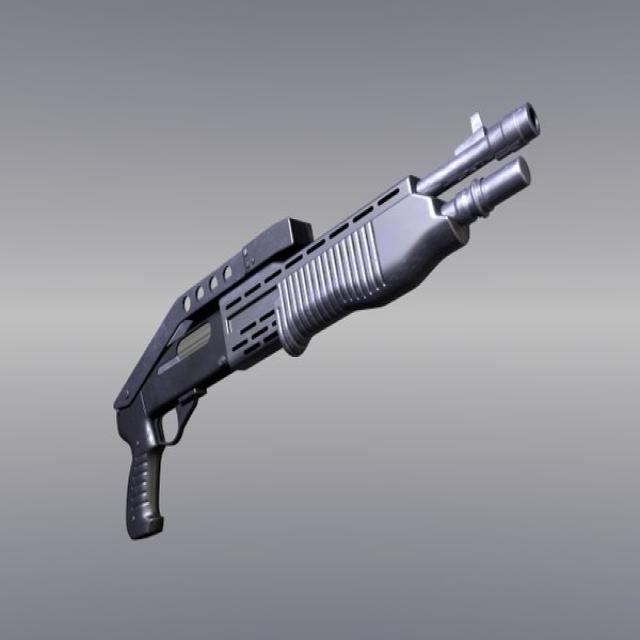ShotGun: (113, 104, 542, 543)
